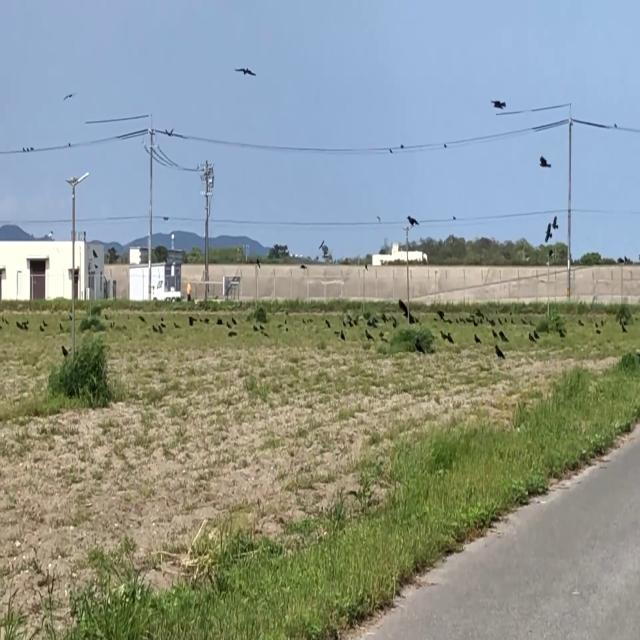bird: (237, 57, 254, 84), (492, 91, 505, 115), (539, 149, 550, 172), (407, 210, 417, 232), (496, 338, 503, 360), (500, 330, 505, 348), (168, 122, 172, 139), (475, 330, 479, 347), (448, 329, 452, 346), (528, 330, 532, 346), (341, 326, 345, 342)
